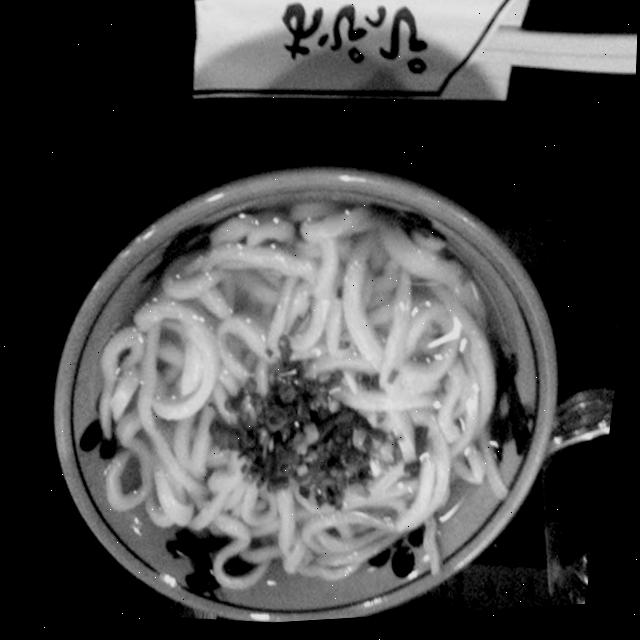面条主食: (2, 118, 611, 639)
